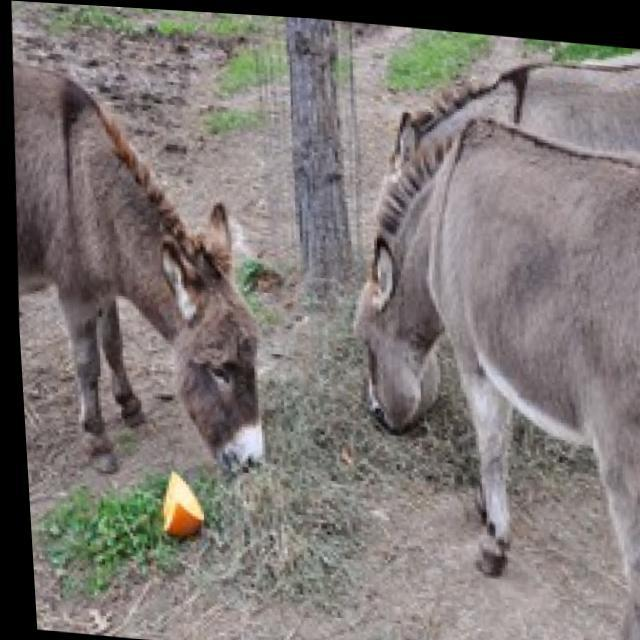Donkey: (333, 99, 640, 640), (2, 52, 278, 495), (378, 22, 640, 276)
